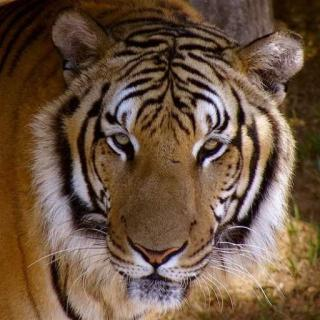Tiger: (3, 2, 320, 320)
